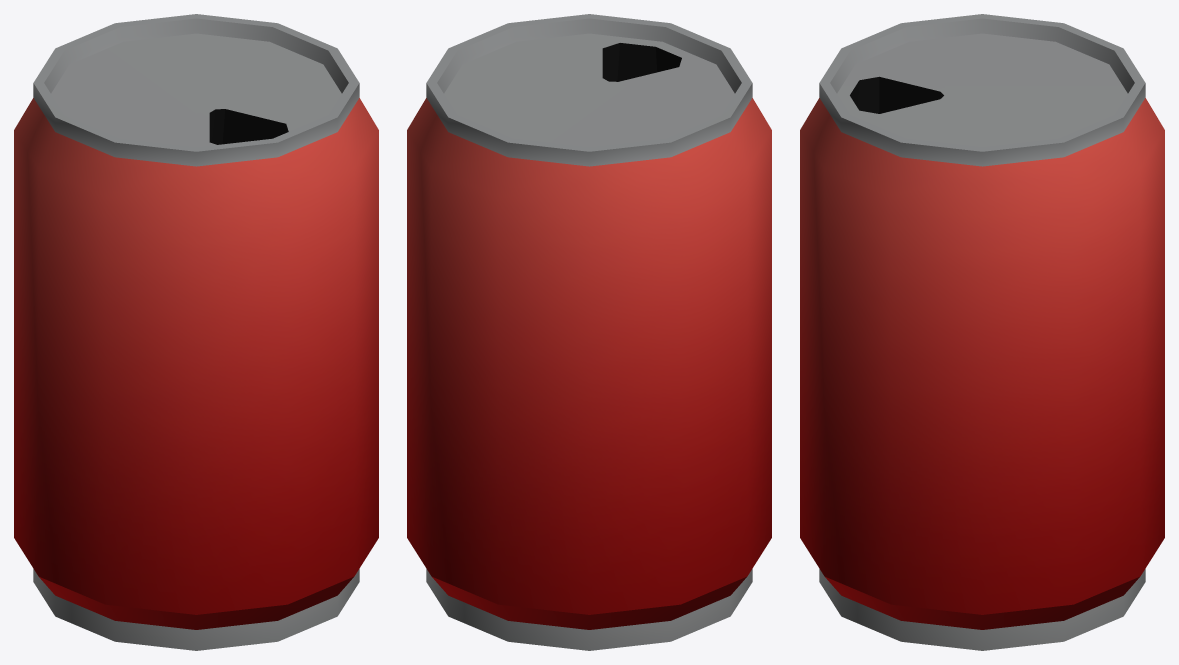
The model's file is Can_Coke.fbx.
3 renders of one model, left to right at view 1: azimuth 30°, elevation 25°; view 2: azimuth 150°, elevation 25°; view 3: azimuth 270°, elevation 25°, orthographic.
Visible parts, largest first — view 1: Can_Coke; view 2: Can_Coke; view 3: Can_Coke.
Boxes of the visible parts, x1,y1,x2,y2 form: Can_Coke: [14, 14, 378, 650]; Can_Coke: [407, 14, 771, 650]; Can_Coke: [800, 14, 1164, 650].
Size of the model in its own units: 9.25 by 13.95 by 9.25.
